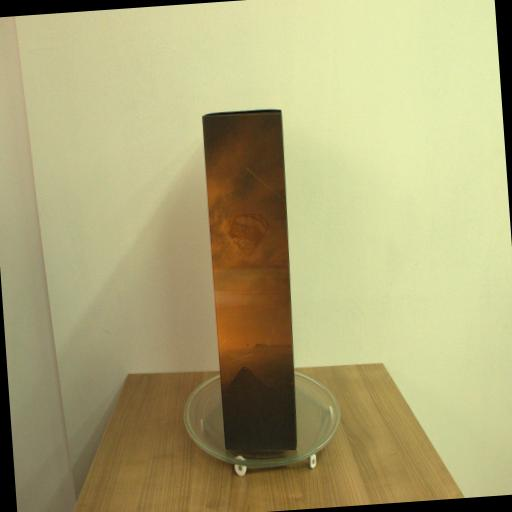superman: (202, 110, 304, 456)
